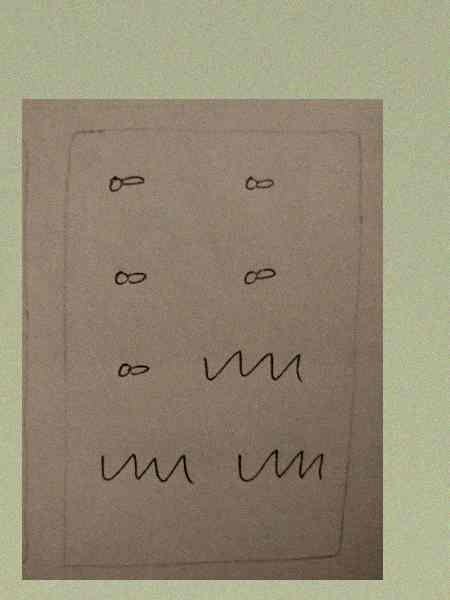switch: (105, 354, 162, 390), (101, 162, 155, 199), (103, 256, 154, 293), (235, 163, 281, 200), (234, 260, 285, 290)
text: (90, 443, 199, 496), (192, 344, 308, 392), (228, 439, 331, 489)
